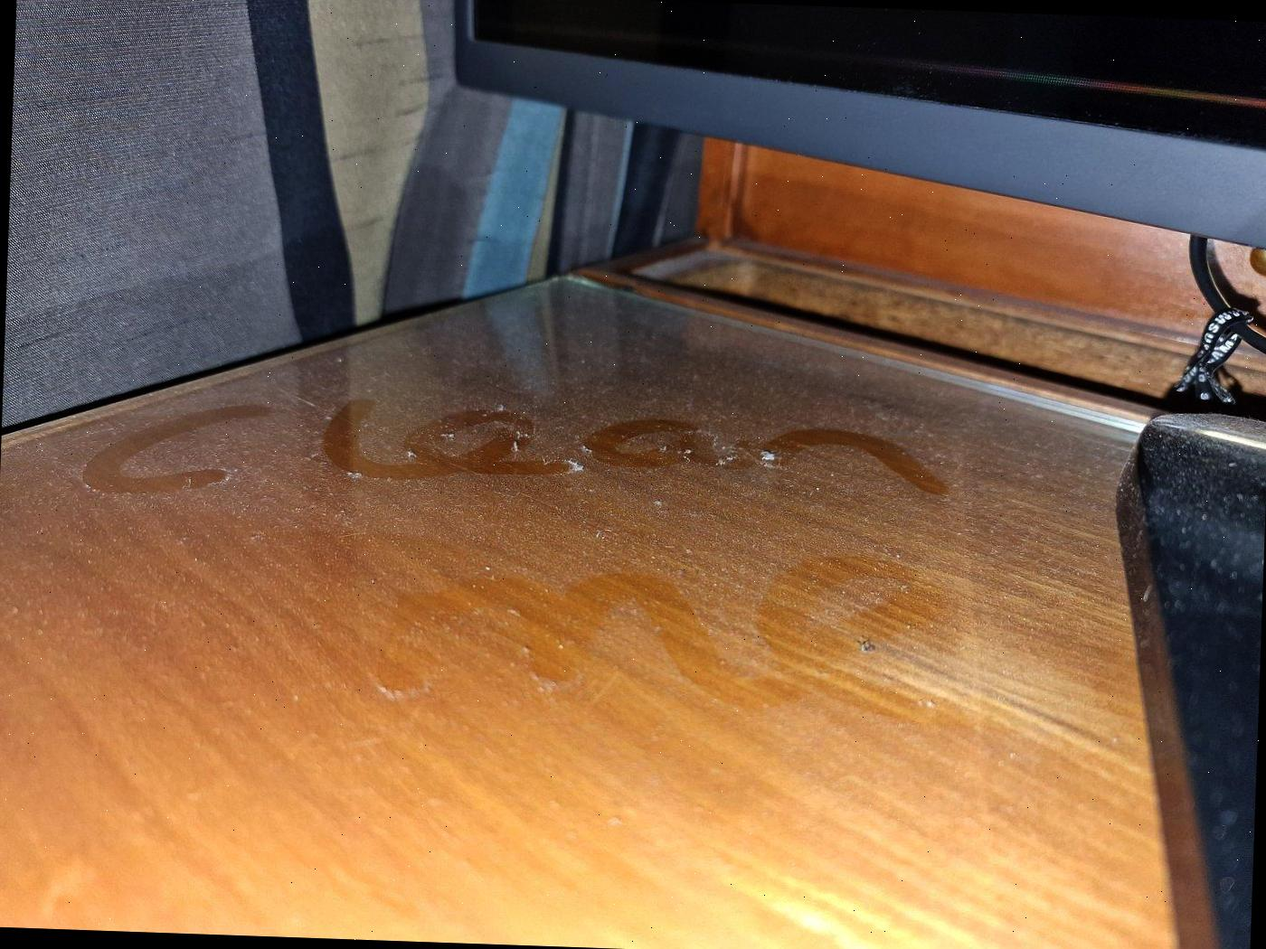messy_table: (0, 234, 1206, 883)
